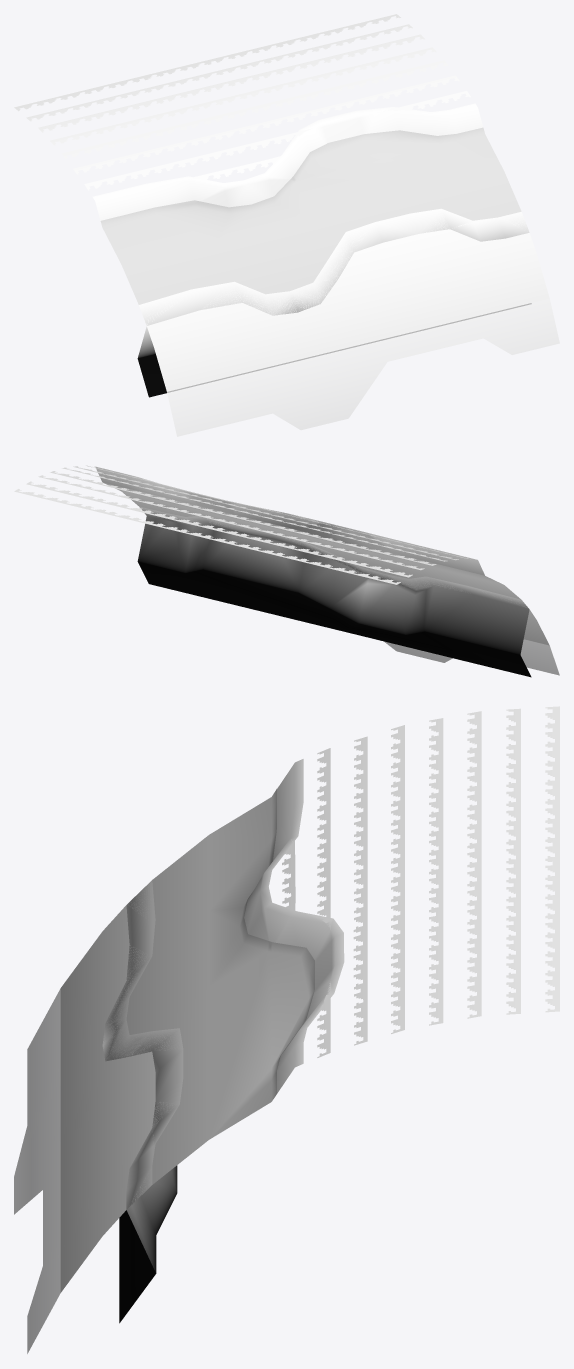
The model's file is grd_Is_2.dae.
3 views of the same model, one above another, from view 1: azimuth 30°, elevation 25°; view 2: azimuth 150°, elevation 25°; view 3: azimuth 270°, elevation 25° (orthographic). The views are drawn at different scales.
Visible parts, largest first — view 1: grd_Is_2; view 2: grd_Is_2; view 3: grd_Is_2.
Part boxes in pixels (<box>): grd_Is_2: <box>14,14,559,436</box>; grd_Is_2: <box>14,465,559,677</box>; grd_Is_2: <box>14,706,559,1353</box>.
Bounding box in the file's own units: 512 × 293 × 387.
Materials: 6 (1 with a texture image).
